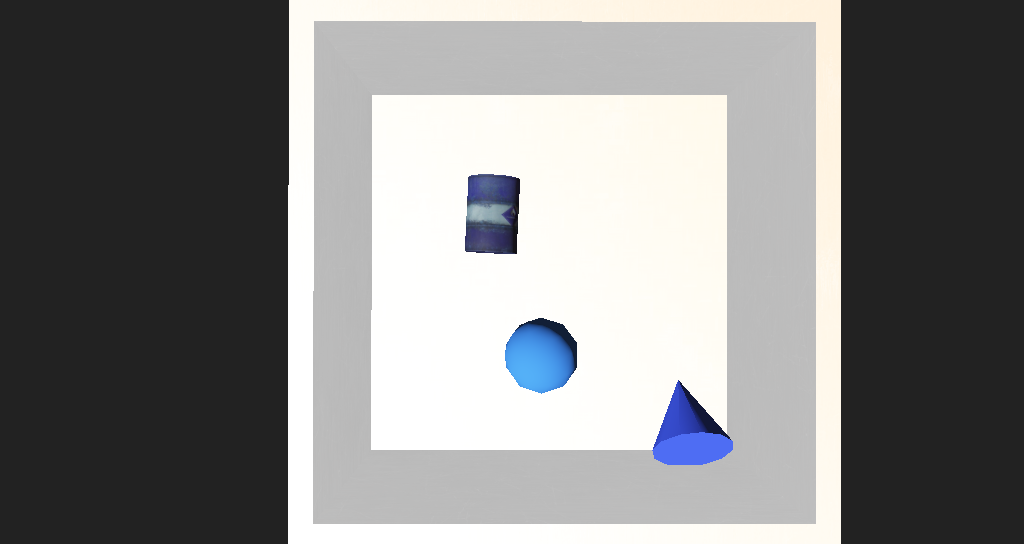cone: (435, 210, 482, 258)
cylinder: (583, 315, 657, 391)
sphere: (468, 298, 529, 341)
